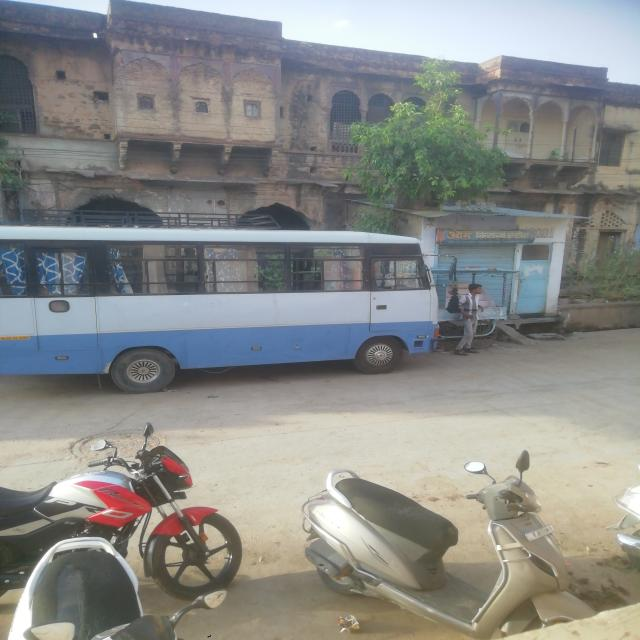Bus: (0, 226, 438, 392)
Two Wheeler: (302, 470, 593, 639), (0, 424, 242, 600), (8, 538, 227, 640)
